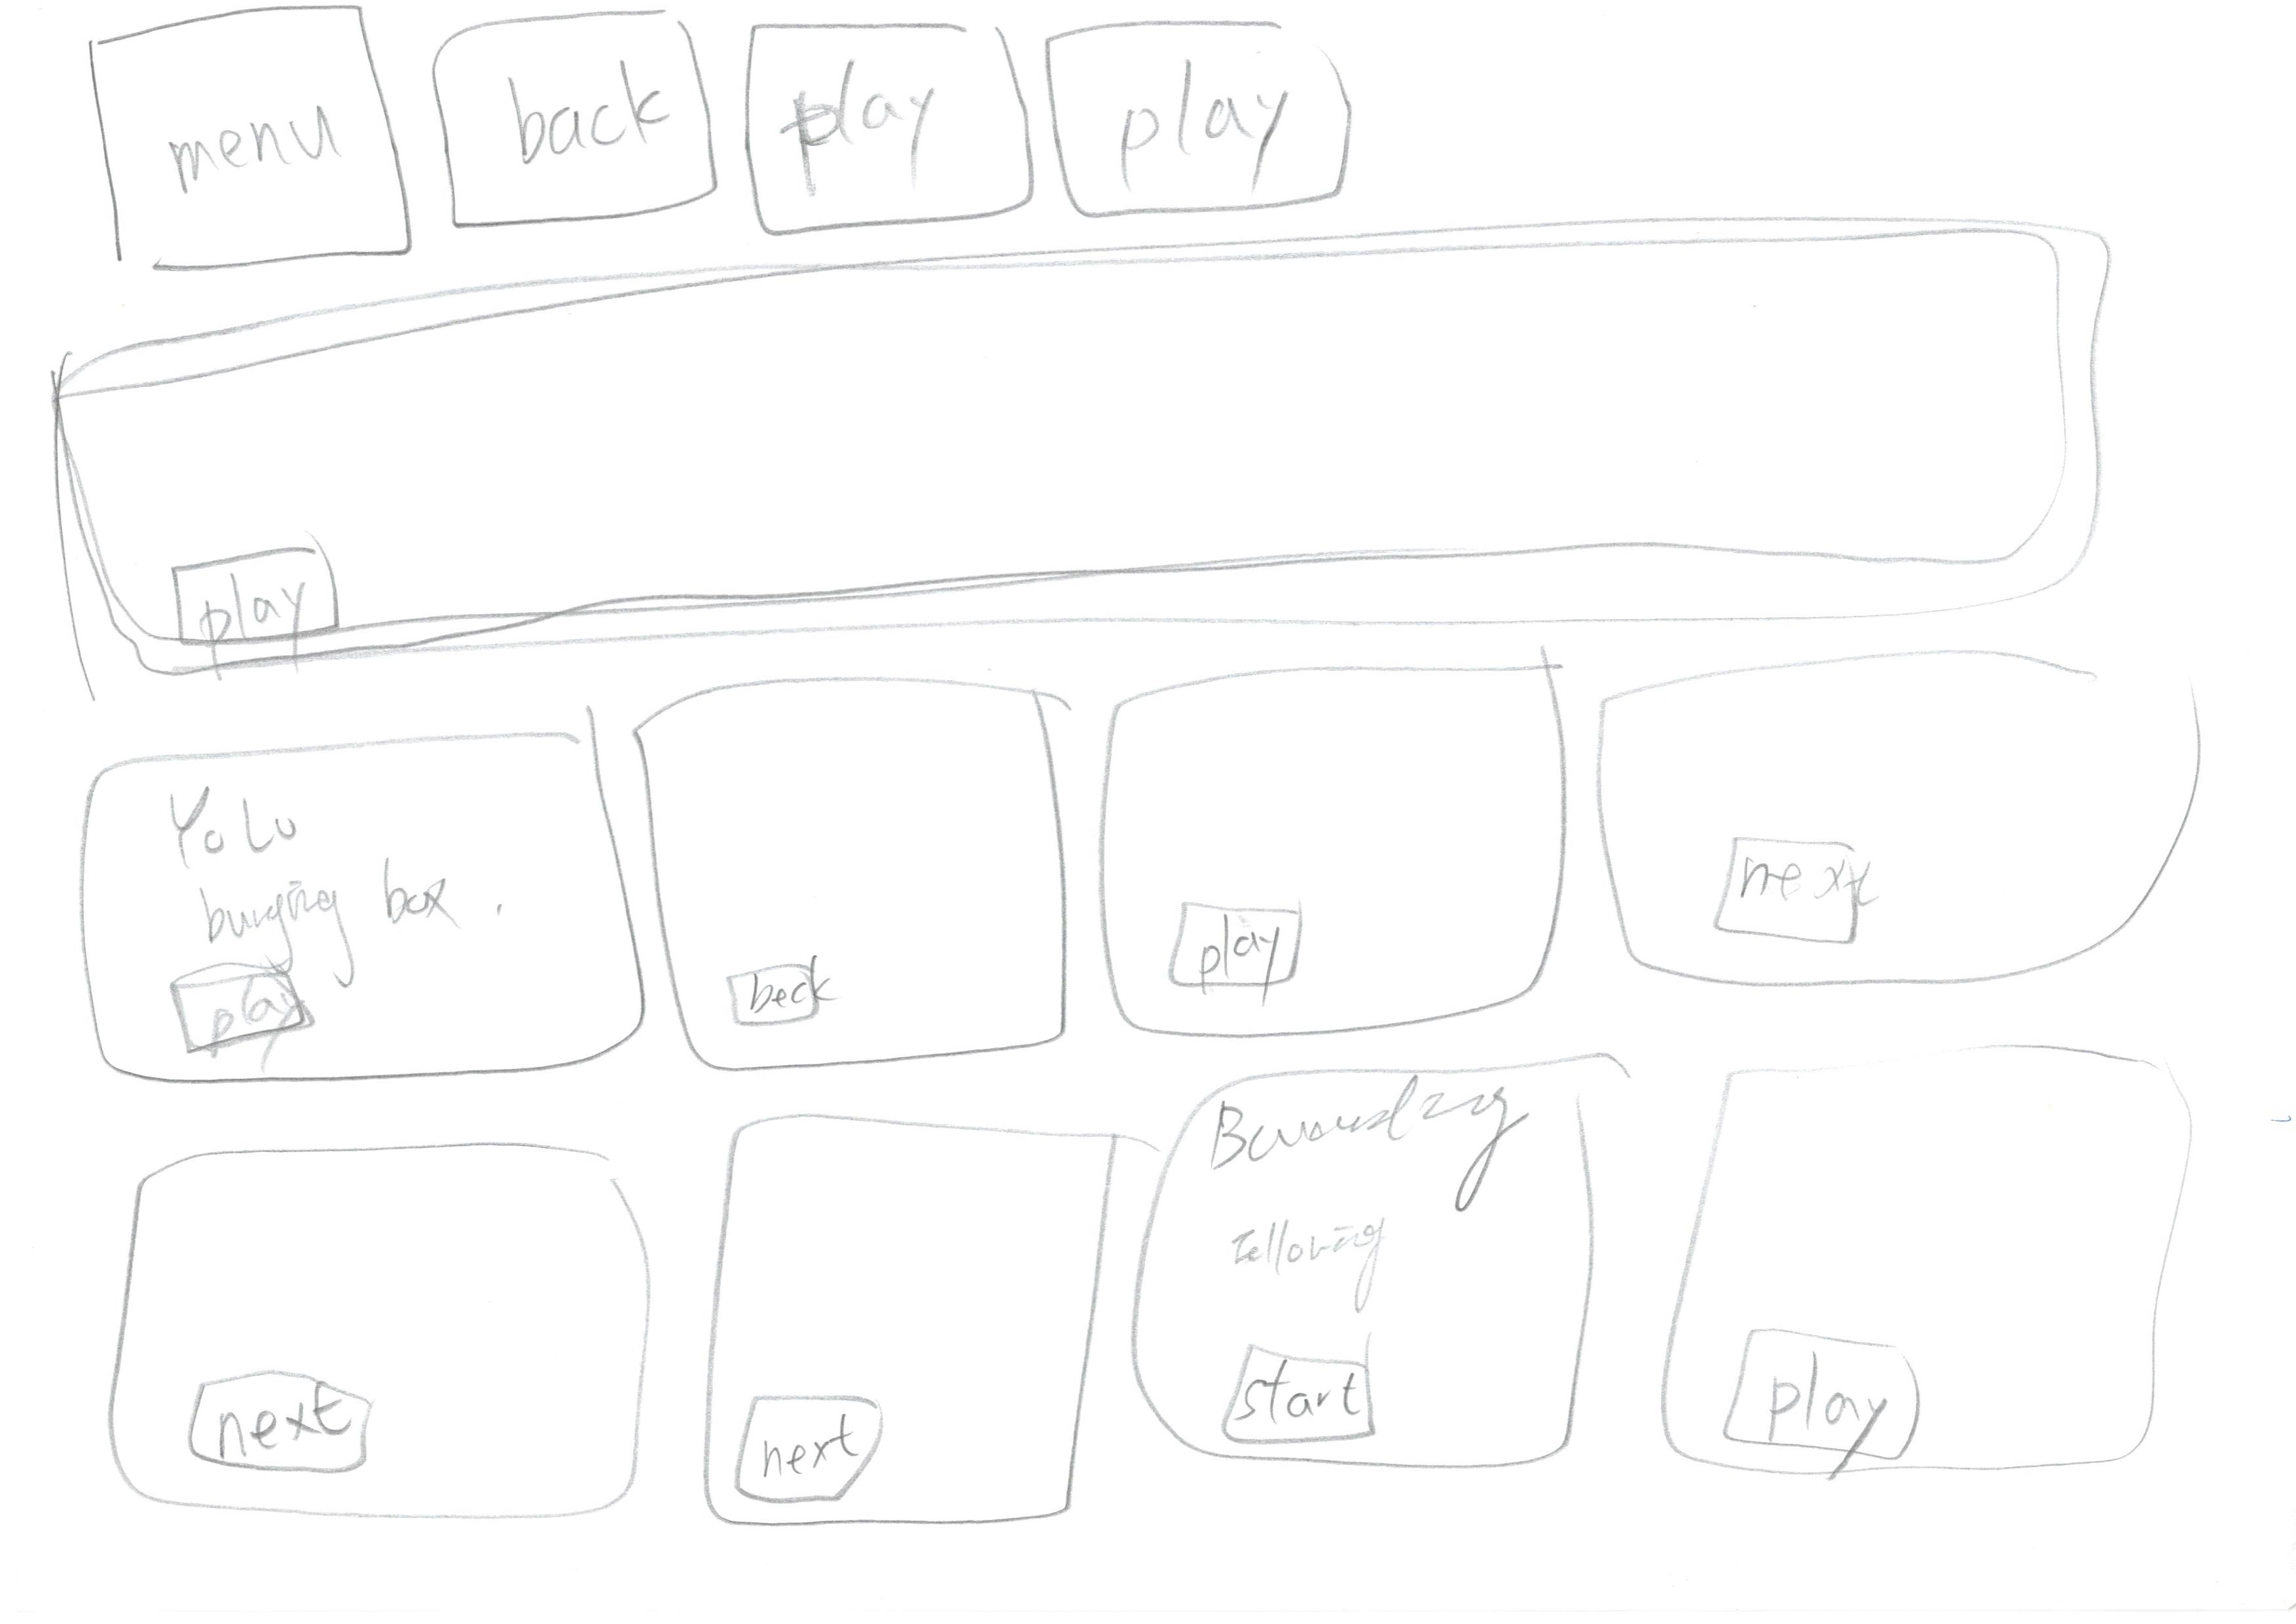back: (408, 4, 721, 241), (710, 942, 868, 1049)
menu: (56, 0, 432, 283)
next: (174, 1359, 413, 1487), (1702, 816, 1895, 961), (728, 1366, 897, 1512)
play: (1028, 9, 1382, 236), (719, 5, 1058, 239), (1725, 1306, 1929, 1473), (142, 545, 359, 671), (153, 958, 348, 1058)
quadruple: (1656, 1028, 2245, 1524), (81, 1107, 698, 1570), (1575, 619, 2257, 1032), (60, 680, 654, 1128), (1123, 1055, 1670, 1520), (1074, 626, 1605, 1072), (605, 643, 1109, 1102), (696, 1098, 1120, 1557)
row: (46, 997, 2296, 1573), (46, 206, 2296, 643), (46, 594, 2296, 1032), (44, 2, 2294, 264)
single: (37, 216, 2213, 735)
small-title: (162, 784, 325, 868)
start: (1208, 1334, 1396, 1443)
text: (211, 875, 464, 942)
